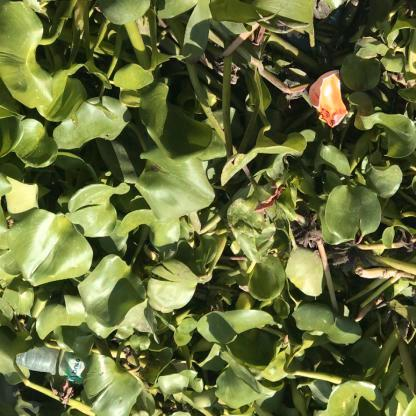Plastic: (14, 346, 99, 383)
